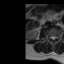CCS_normal: (52, 34, 54, 43)
LFS_normal: (56, 34, 58, 40)
LLS_stenosis: (54, 34, 56, 40)
RFS_normal: (48, 34, 50, 40)
RLS_normal: (50, 34, 52, 40)
